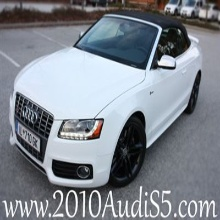no damage: (8, 12, 204, 190)
